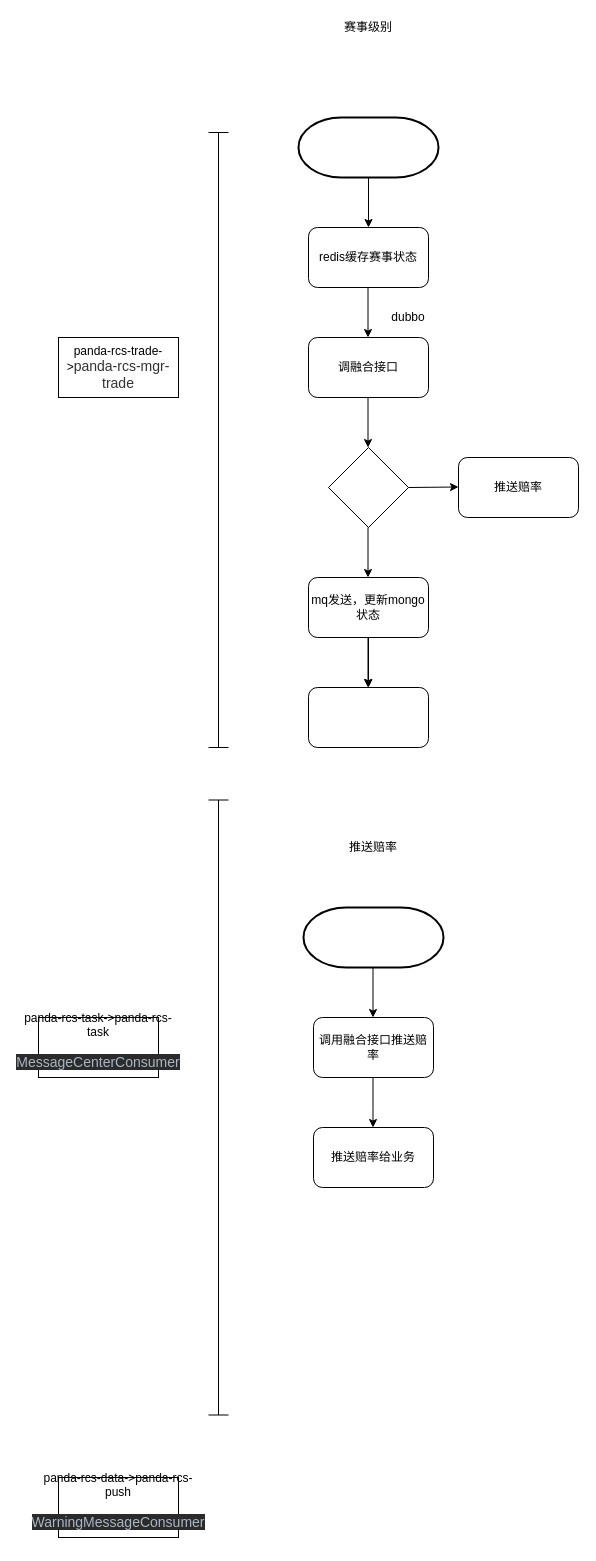
Image size: 596x1561. Some labels were removed from this diagram. The shapes that lost their labels are listed below. From the top down, each one's box as (x1, y1, x2, y2) in pixels, then its label:
(297, 116, 439, 178): 修改赛事操盘状态开始
(328, 446, 408, 528): 是否开盘
(308, 686, 428, 748): 发送mq，ws推送到前端
(302, 906, 444, 968): 单个玩法推送赔率开始
